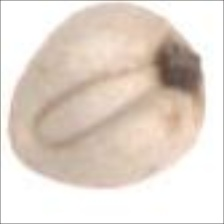L5: (30, 61, 171, 157), (155, 27, 208, 99), (6, 94, 30, 170)
L6: (5, 1, 205, 191)
